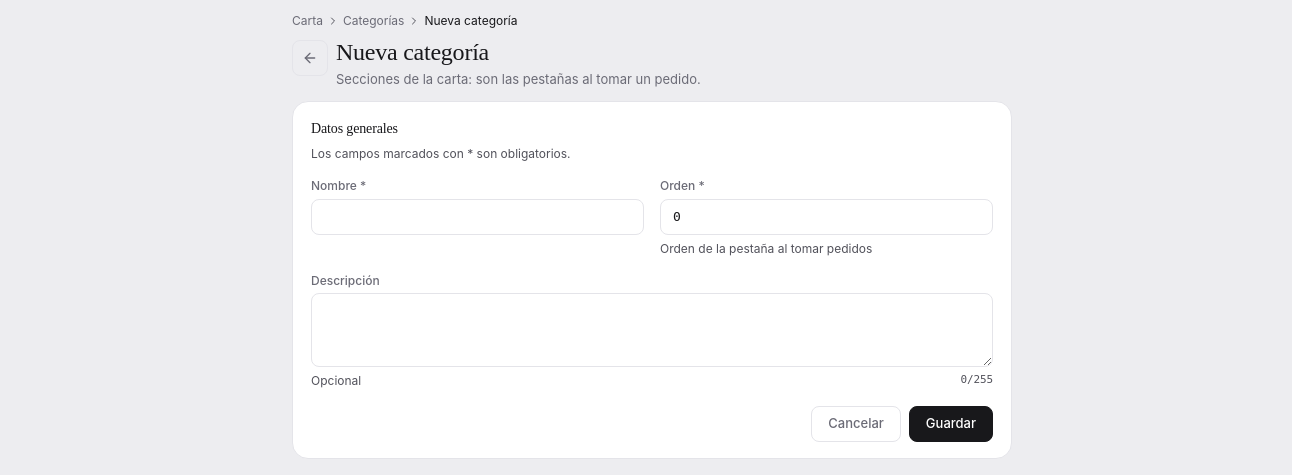
Test: Categorías — crear › guarda, vuelve al listado y muestra el aviso de confirmación
The width and height of the screenshot is (1292, 475).
Click the field labelled "Nombre *": (478, 217) top-left (311, 199), bottom-right (644, 235)
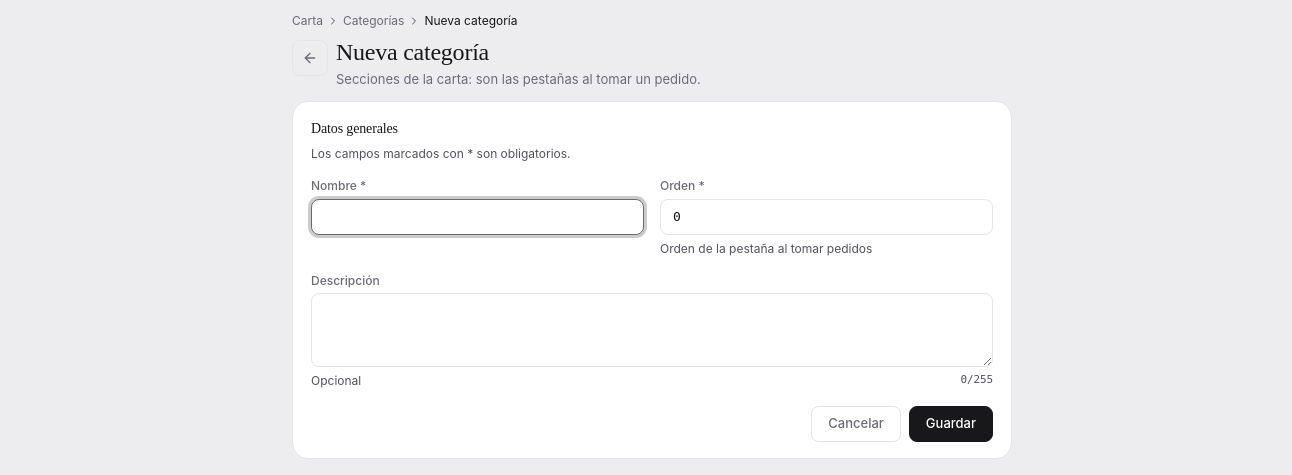
Type keys "Pinturas y acabados para exterior"
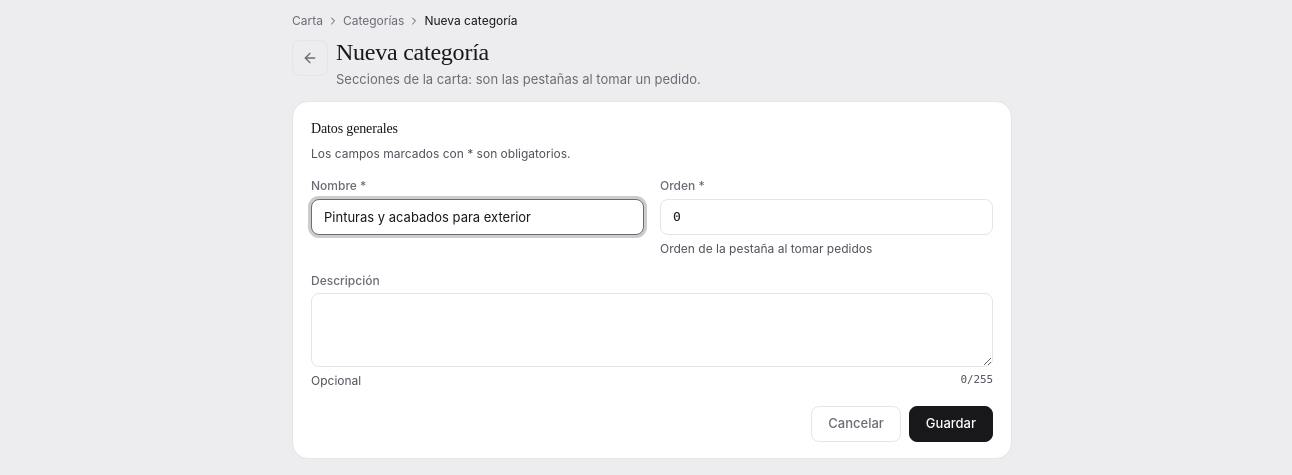
Expected: the field labelled "Nombre *" holds "Pinturas y acabados para exterior", top-left (311, 199), bottom-right (644, 235)
Click the button "Guardar": (951, 424) top-left (909, 406), bottom-right (993, 442)
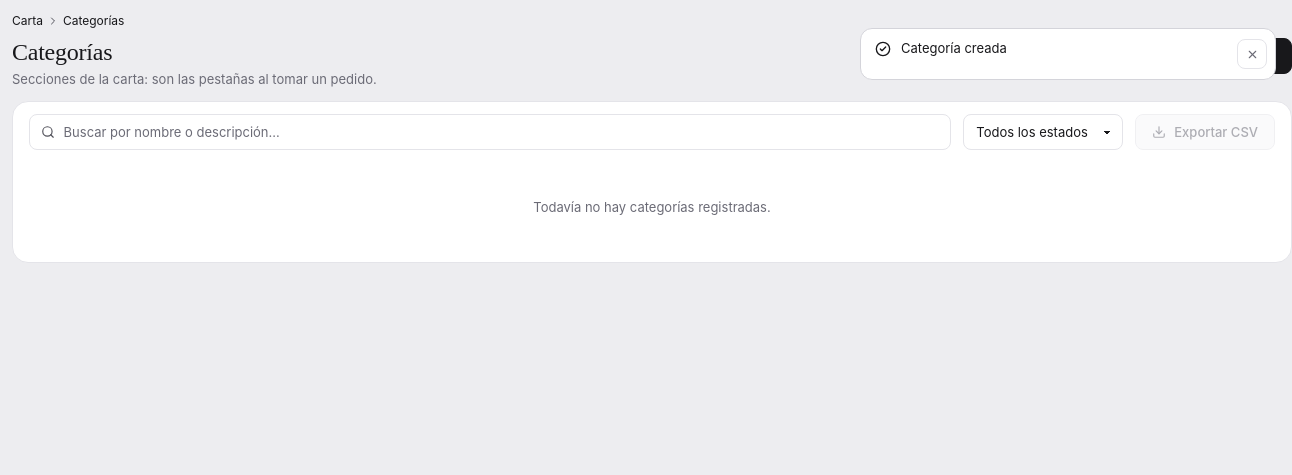
Expected: the heading "Categorías" is shown, top-left (12, 39), bottom-right (112, 65)
Expected: the message reads "Categoría creada", top-left (901, 40), bottom-right (1007, 56)
